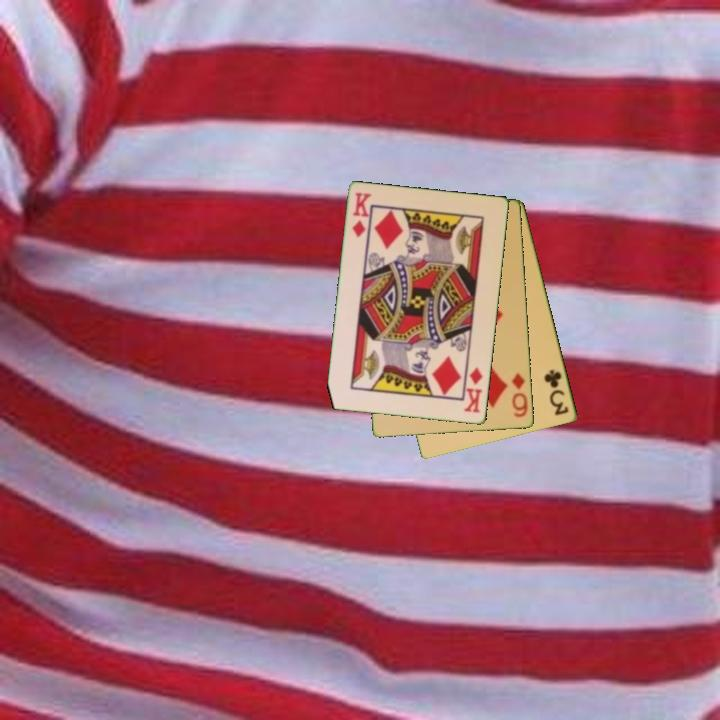3c: (541, 366, 572, 418)
6d: (509, 370, 531, 421)
Kd: (461, 364, 486, 416), (349, 189, 374, 240)
